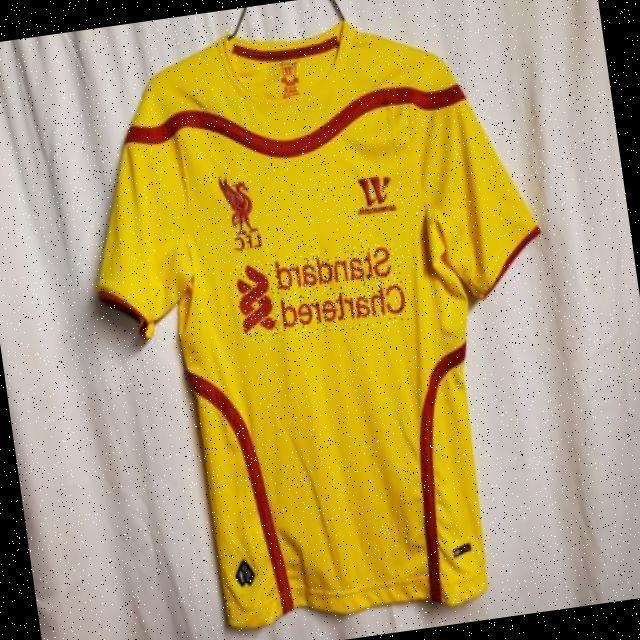Standard Chartered: (232, 240, 409, 344)
